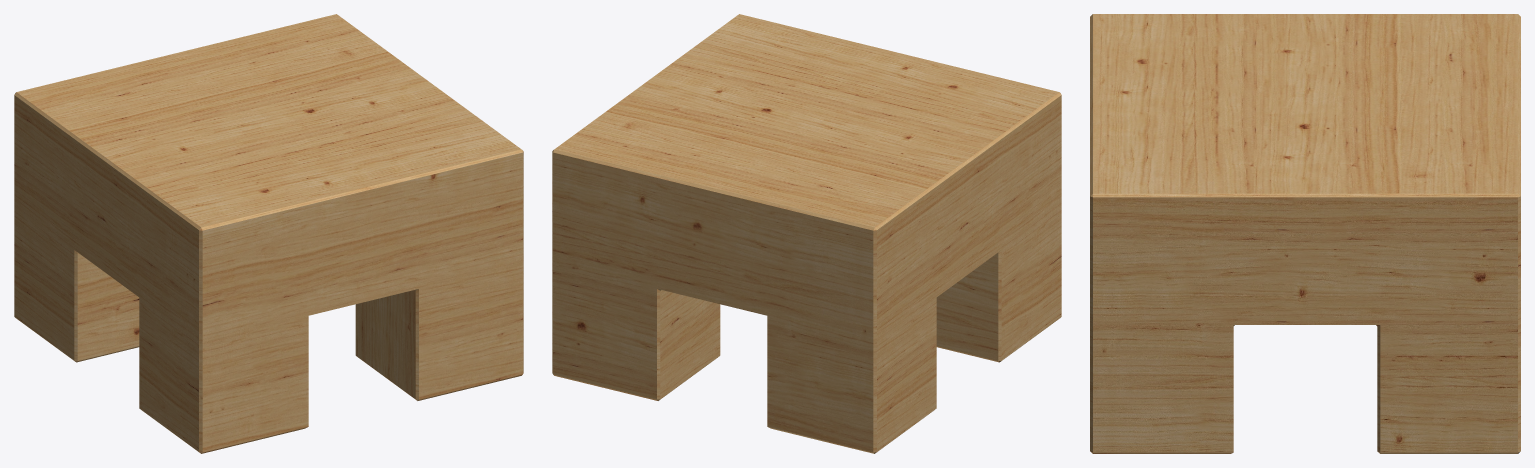
The model's file is furnace.dae.
The picture shows the model from 3 angles, left to right: view 1: azimuth 30°, elevation 25°; view 2: azimuth 150°, elevation 25°; view 3: azimuth 270°, elevation 25°; orthographic projection. The views are drawn at different scales.
Visible parts, largest first — view 1: Cube; view 2: Cube; view 3: Cube.
Part boxes in pixels (left/top/right/bottom): Cube: left=14, top=14, right=523, bottom=453; Cube: left=552, top=14, right=1061, bottom=453; Cube: left=1090, top=14, right=1520, bottom=453.
Bounding box in the file's own units: 3 × 3 × 2.
1 material, 1 textured.
